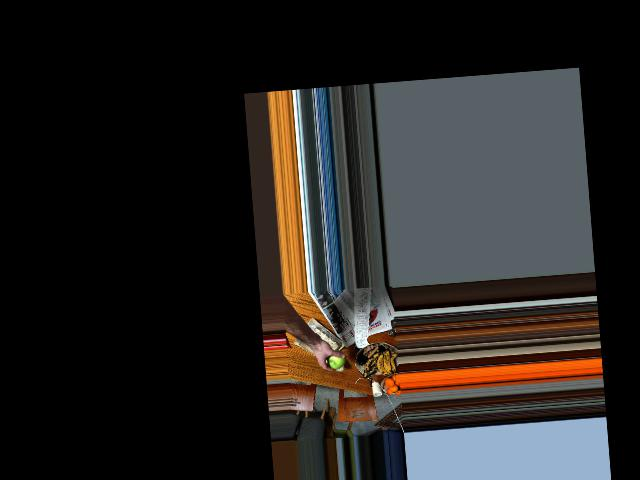apple: (322, 344, 344, 369)
